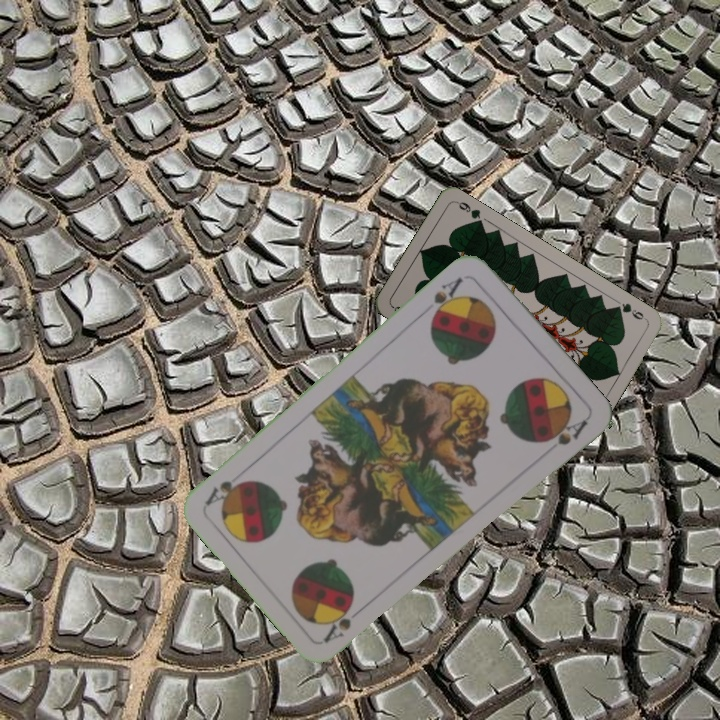G9: (610, 299, 649, 323)
SA: (319, 601, 368, 645), (427, 272, 466, 322)
